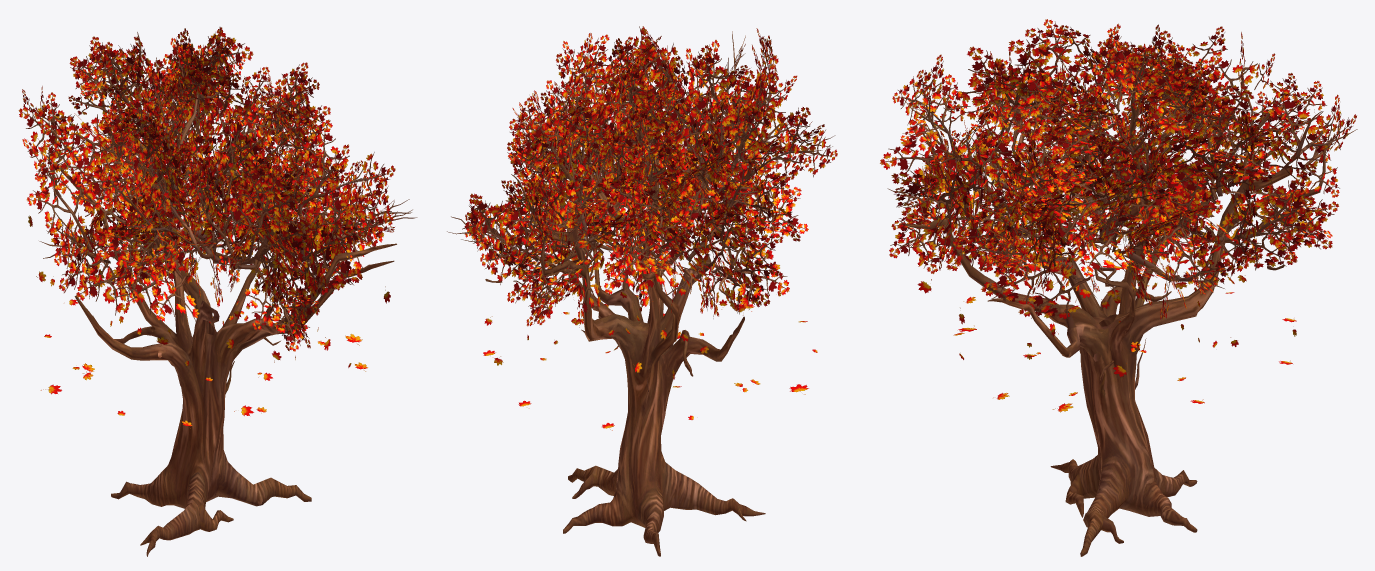
File: tree_mesh_full_texture.glb
The picture shows the model from 3 angles, left to right: view 1: azimuth 30°, elevation 25°; view 2: azimuth 150°, elevation 25°; view 3: azimuth 270°, elevation 25°; orthographic projection. The views are drawn at different scales.
Visible parts, largest first — view 1: Tree_with_Falling_Leaves.002_5; view 2: Tree_with_Falling_Leaves.002_5; view 3: Tree_with_Falling_Leaves.002_5.
Part boxes in pixels (<box>): Tree_with_Falling_Leaves.002_5: <box>18,27,417,556</box>; Tree_with_Falling_Leaves.002_5: <box>447,26,837,556</box>; Tree_with_Falling_Leaves.002_5: <box>880,19,1357,556</box>.
Bounding box in the file's own units: 22.88 × 32.99 × 30.07.
Materials: 3 (3 with a texture image).
